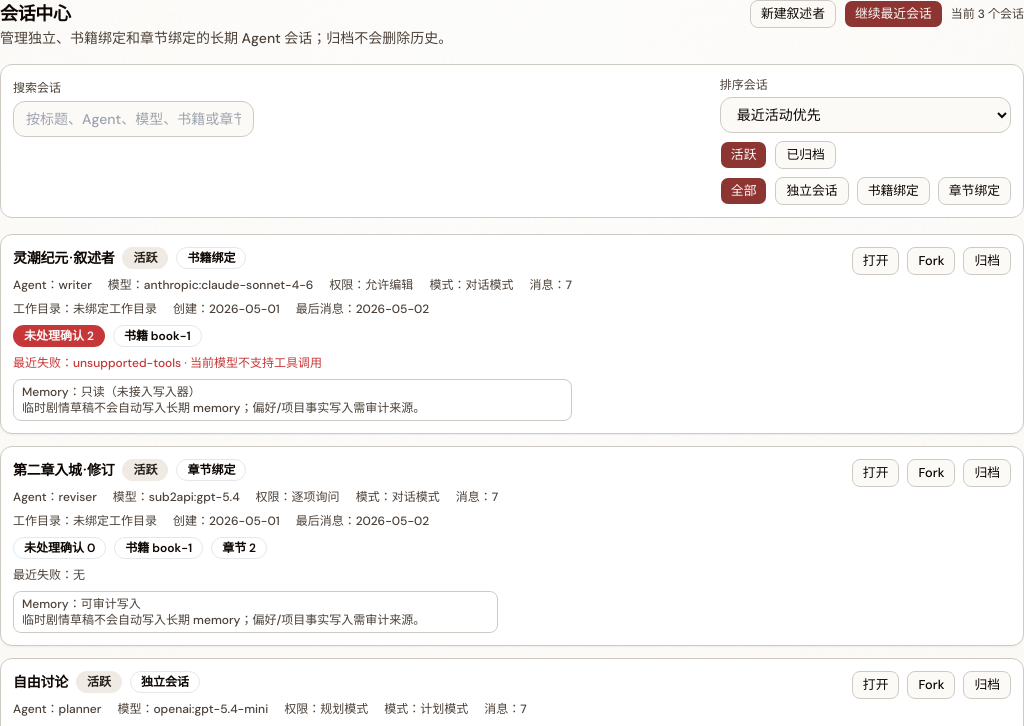
SessionCenter › shows lifecycle errors without opening an empty session
This screenshot has width=1024, height=726.
Click the button "继续最近会话": point(893, 14) [844, 0, 943, 28]
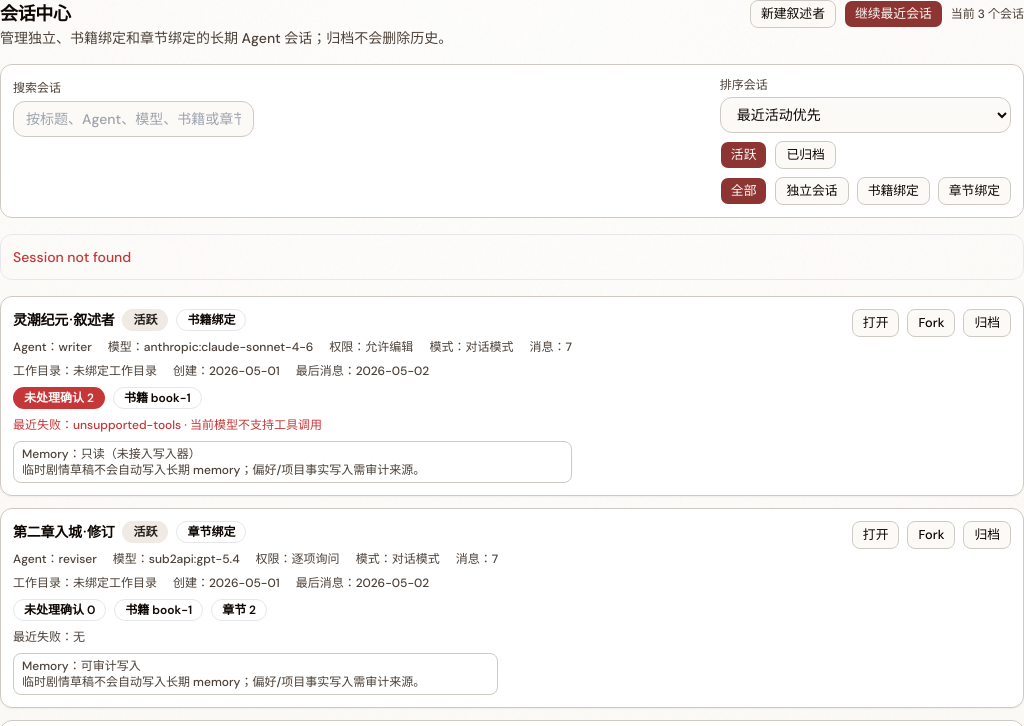
Check: the text "Session not found" is shown, box [0, 234, 1023, 280]
